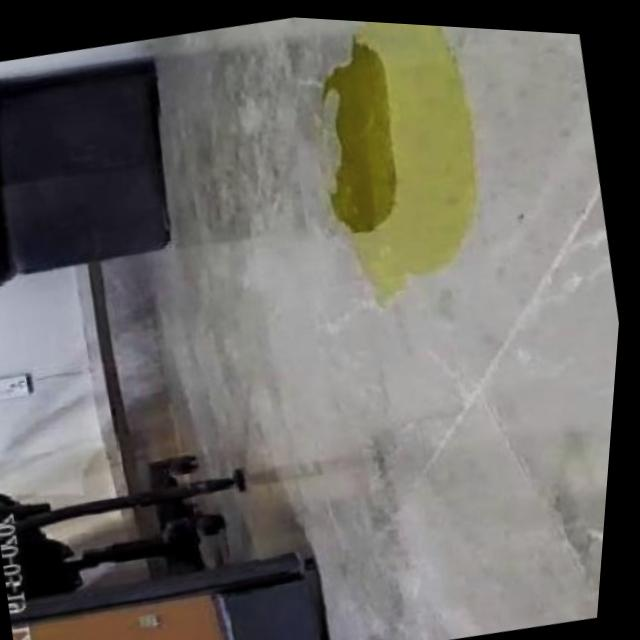spillage: (322, 17, 482, 275)
